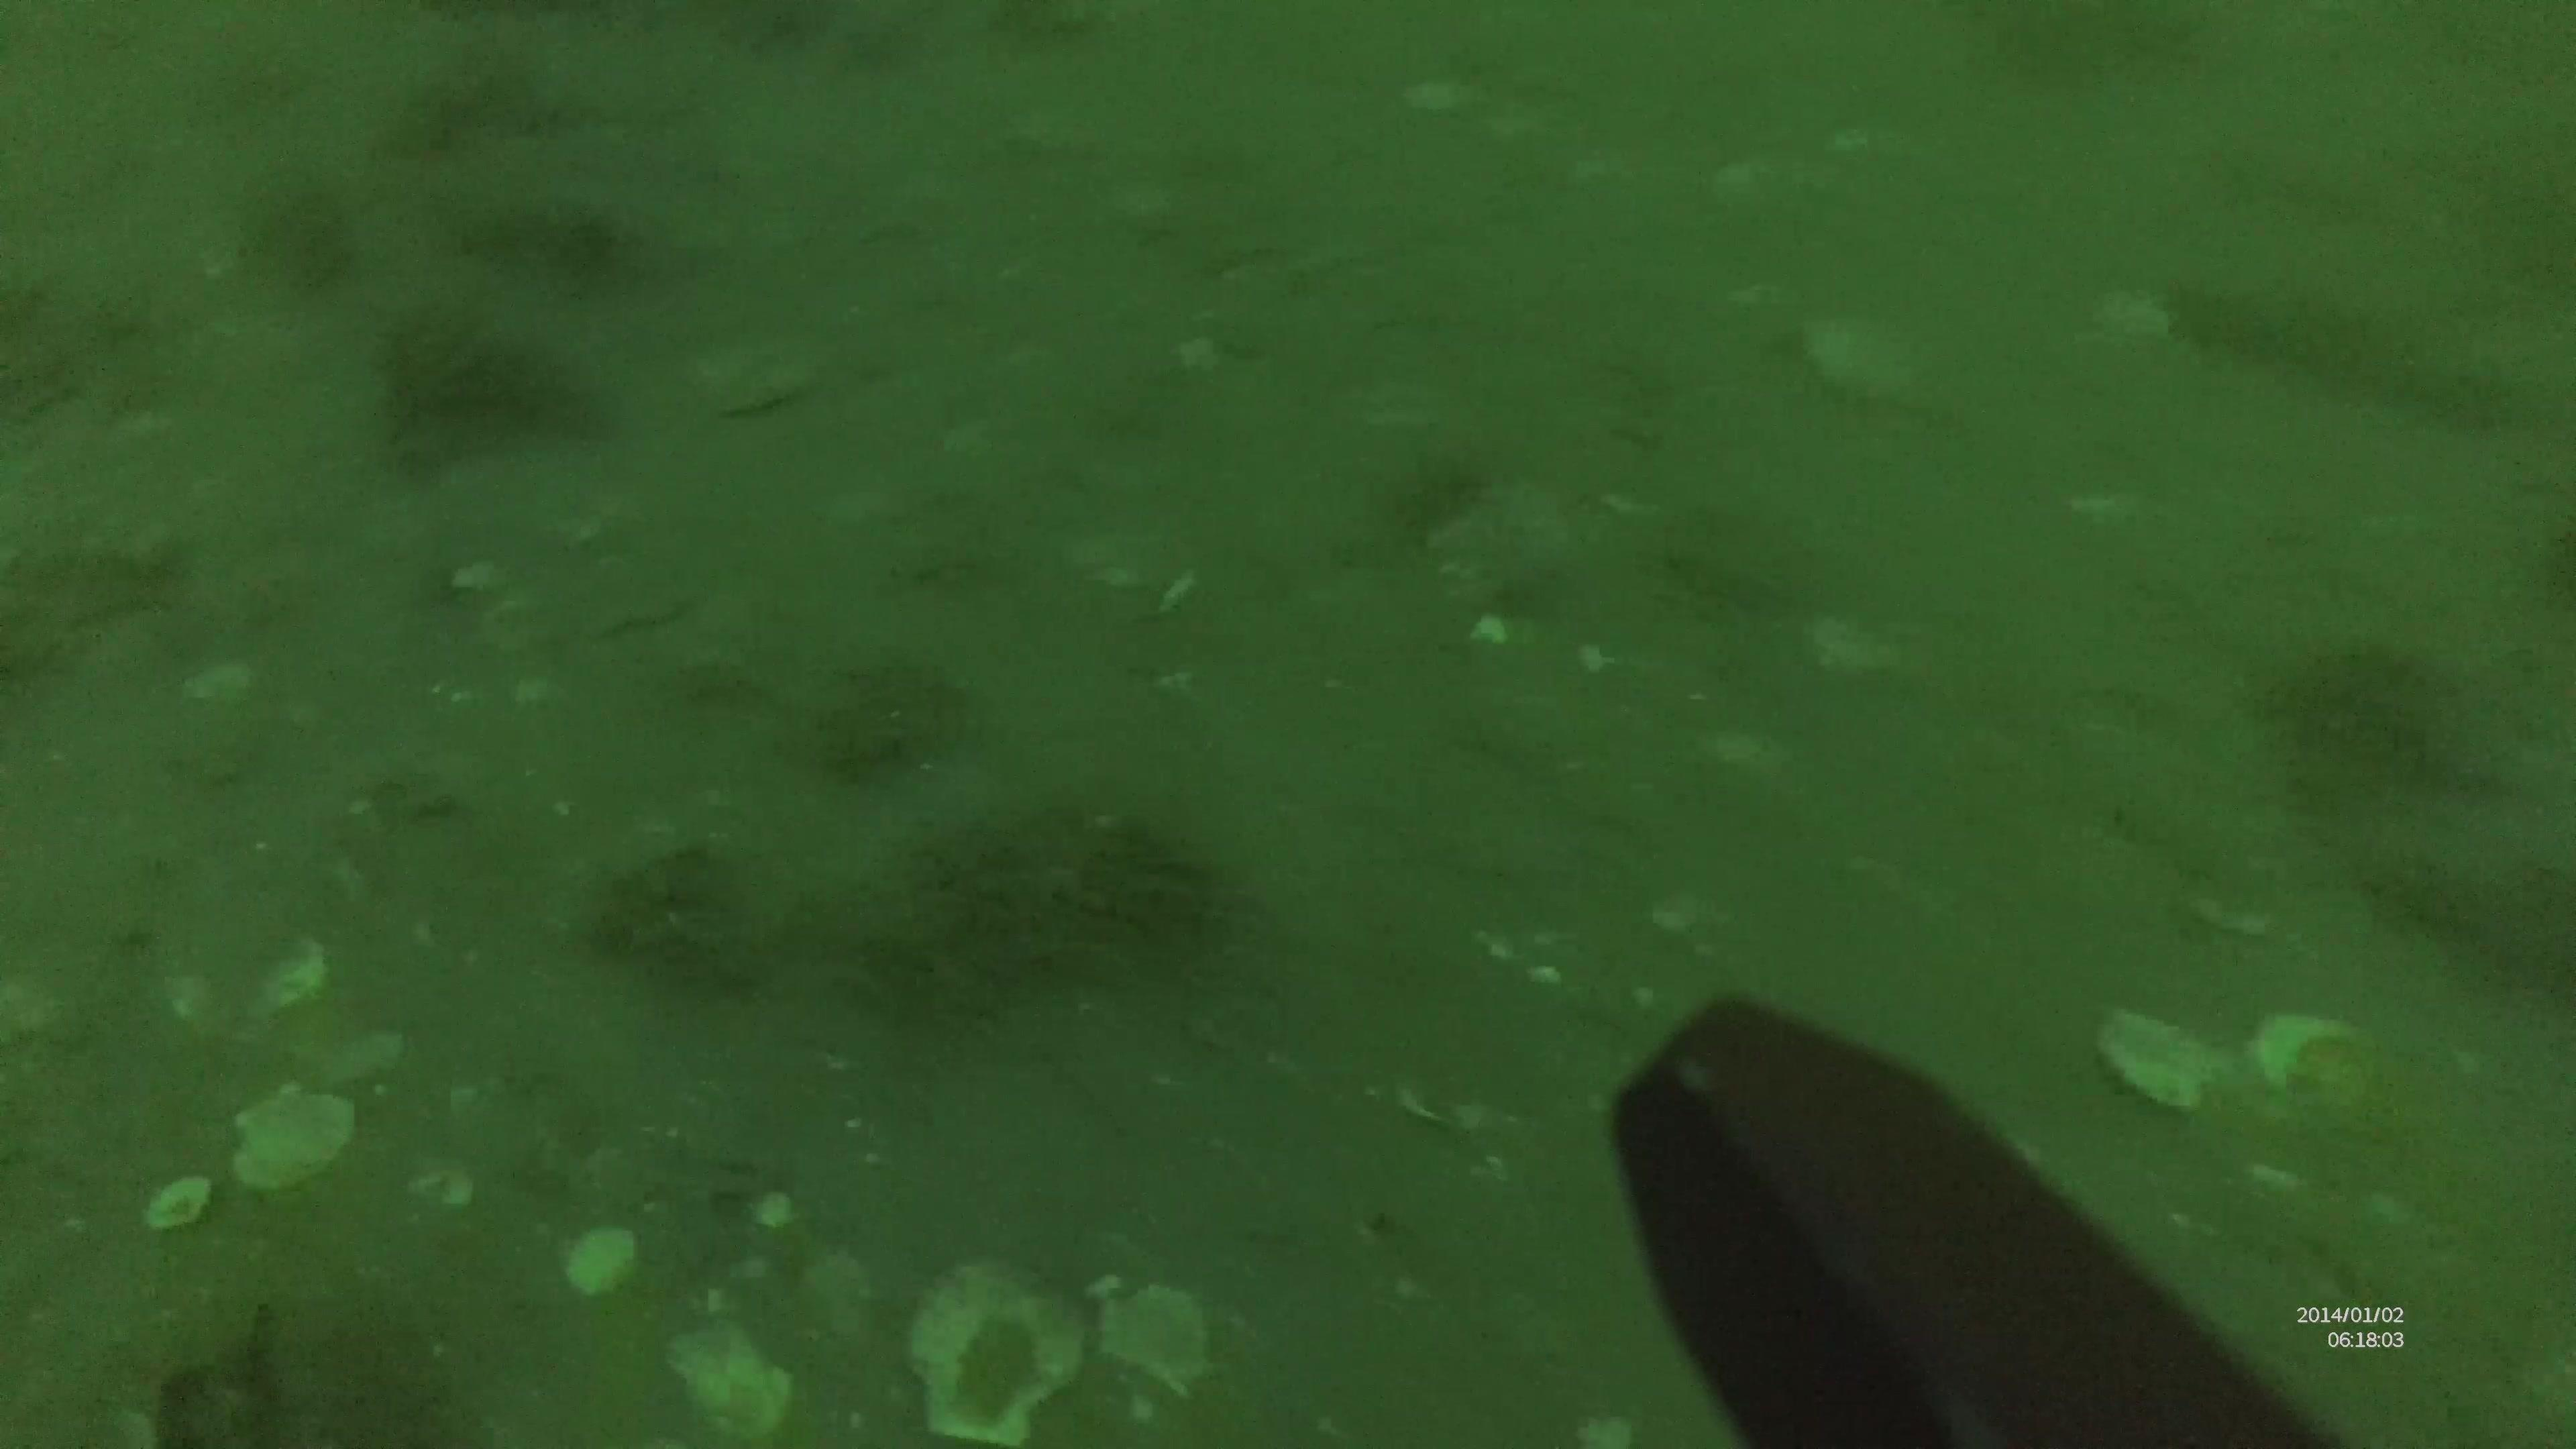scallop: (895, 1270, 1083, 1445), (230, 1086, 356, 1196)
